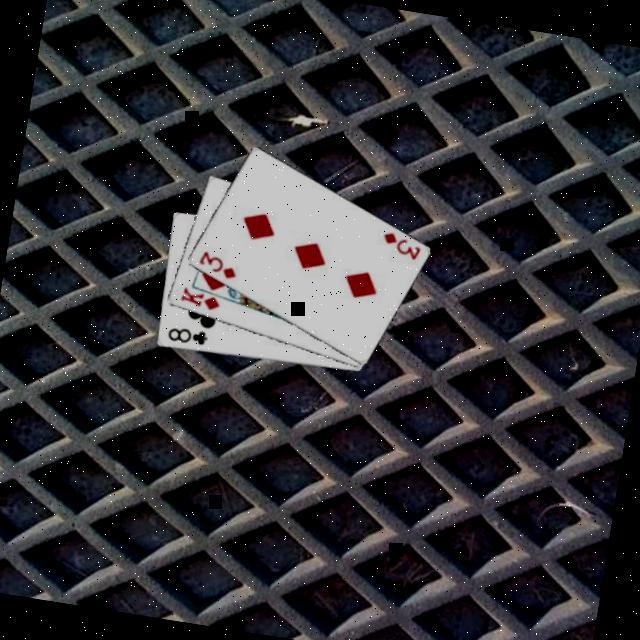3D: (193, 247, 241, 284), (376, 228, 424, 265)
8C: (162, 324, 210, 351)
KD: (175, 285, 224, 316)
